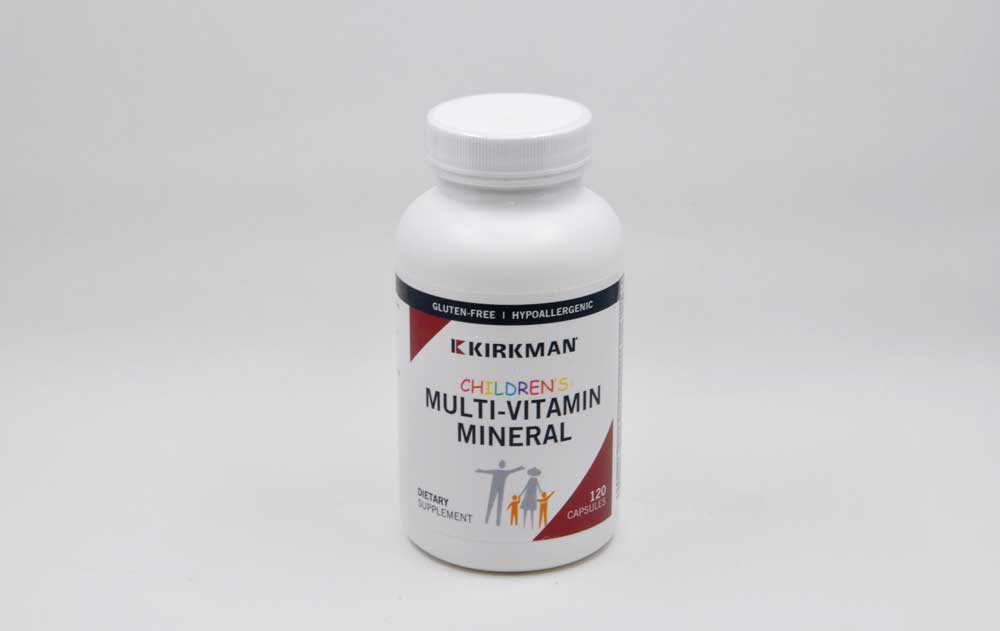supplement_label: (379, 265, 632, 546)
